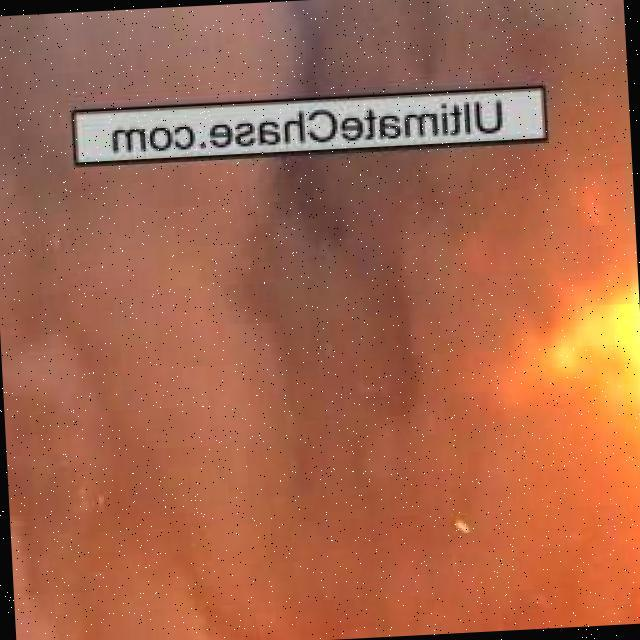Fire: (399, 141, 640, 486)
